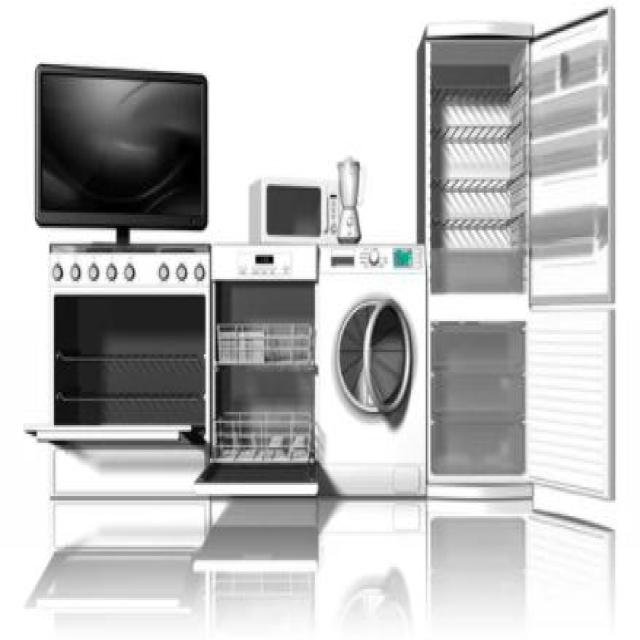dishwasher: (191, 242, 321, 500)
